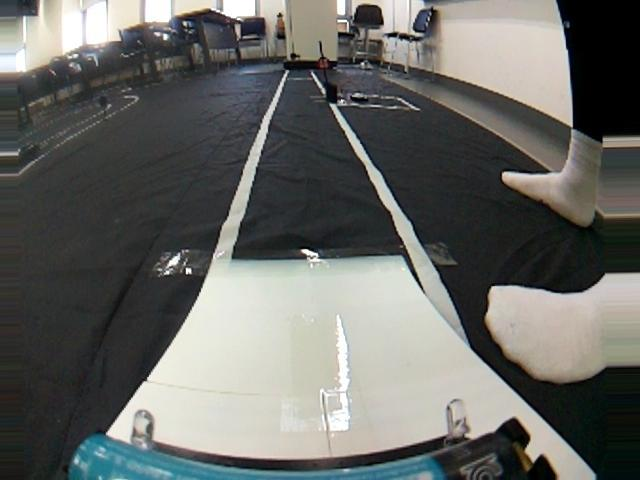hill_down: (10, 250, 606, 477)
straight: (8, 107, 614, 249)
